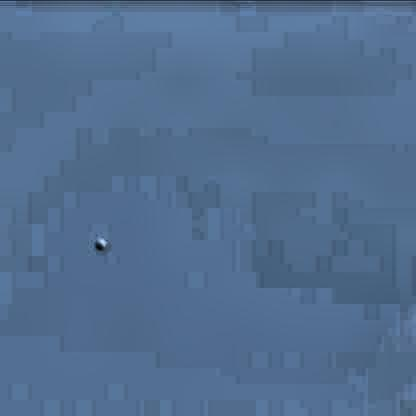golfball: (92, 234, 105, 250)
